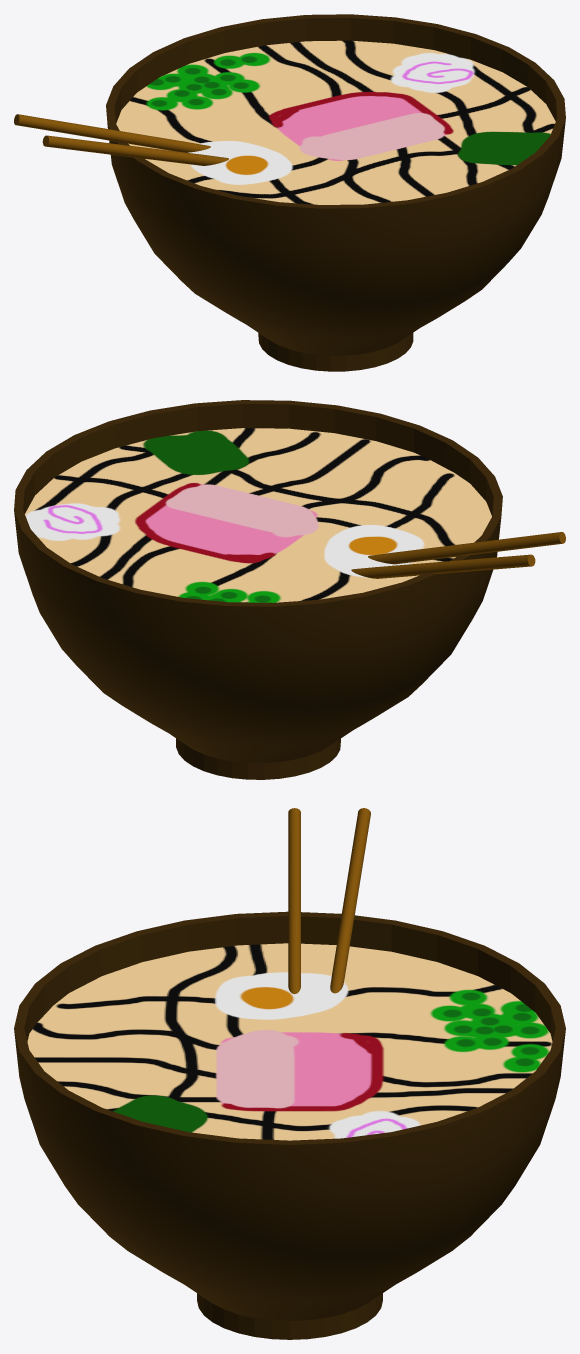
Rendered from Ramen.fbx.
3 views of the same model, one above another, from view 1: azimuth 30°, elevation 25°; view 2: azimuth 150°, elevation 25°; view 3: azimuth 270°, elevation 25° (orthographic). The views are drawn at different scales.
Visible parts, largest first — view 1: Ramen Bowl, Chopstick (×2); view 2: Ramen Bowl, Chopstick (×2); view 3: Ramen Bowl, Chopstick (×2).
Part boxes in pixels (x1,y1,x2,y2): Ramen Bowl: [106, 14, 565, 371]; Chopstick (×2): [14, 114, 228, 165]; Ramen Bowl: [14, 400, 502, 779]; Chopstick (×2): [351, 532, 565, 578]; Ramen Bowl: [14, 911, 565, 1339]; Chopstick (×2): [288, 808, 370, 994].
Bounding box in the file's own units: 29.09 × 15.42 × 23.73.
